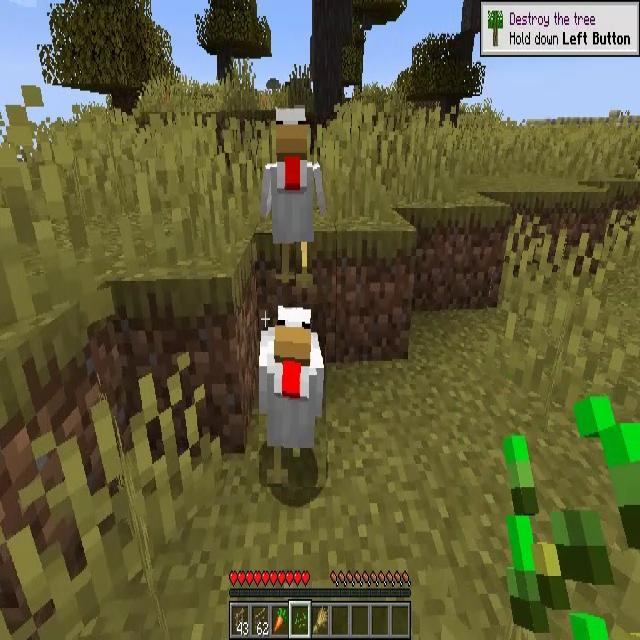duck: (259, 303, 326, 487), (260, 105, 318, 285)
